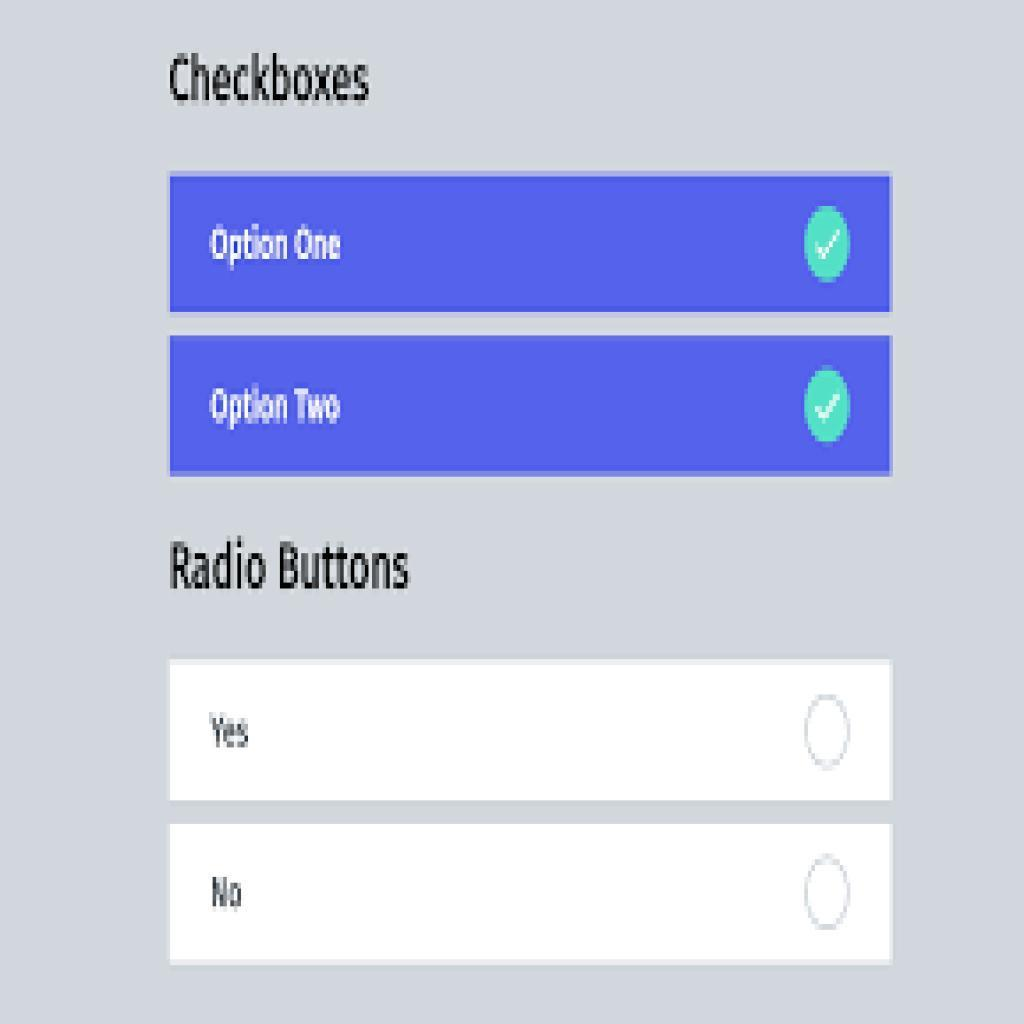label: (168, 531, 422, 599), (168, 48, 378, 107), (201, 222, 347, 274), (210, 380, 349, 432), (204, 710, 260, 755), (207, 872, 247, 914)
radio: (802, 694, 853, 774), (804, 852, 851, 932), (805, 367, 851, 448), (804, 210, 853, 281)
